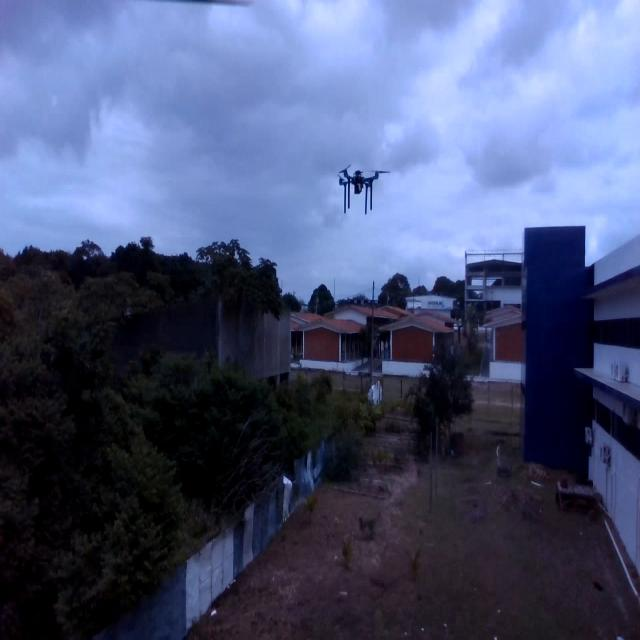-uav-: (333, 144, 395, 238)
